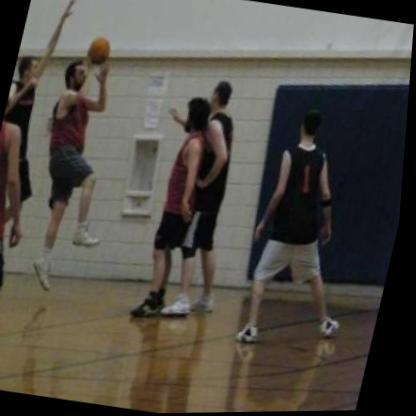basketball: (82, 30, 116, 67)
